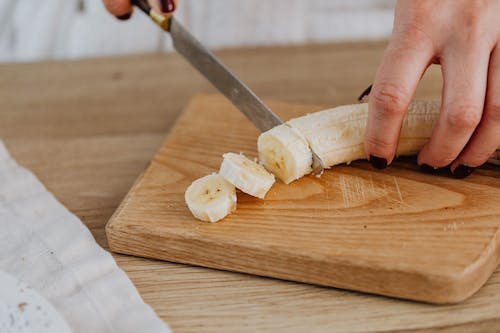knife: (128, 0, 325, 179)
